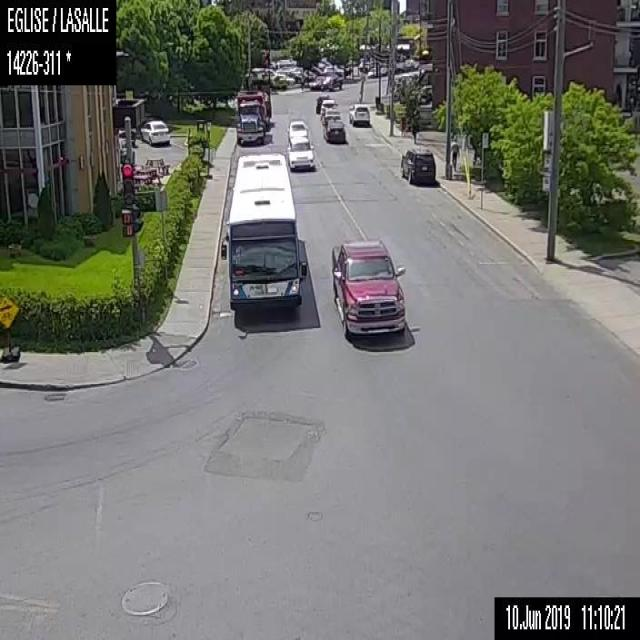bus: (218, 150, 308, 320)
pedestrian: (449, 133, 460, 172), (410, 114, 420, 146), (397, 111, 407, 139)
vehicle: (330, 235, 406, 340), (234, 82, 271, 146), (398, 146, 437, 186), (286, 136, 316, 172), (139, 119, 171, 147), (348, 101, 371, 126), (323, 118, 346, 141), (286, 118, 308, 139), (320, 74, 342, 90), (318, 98, 338, 115), (308, 73, 326, 89)
